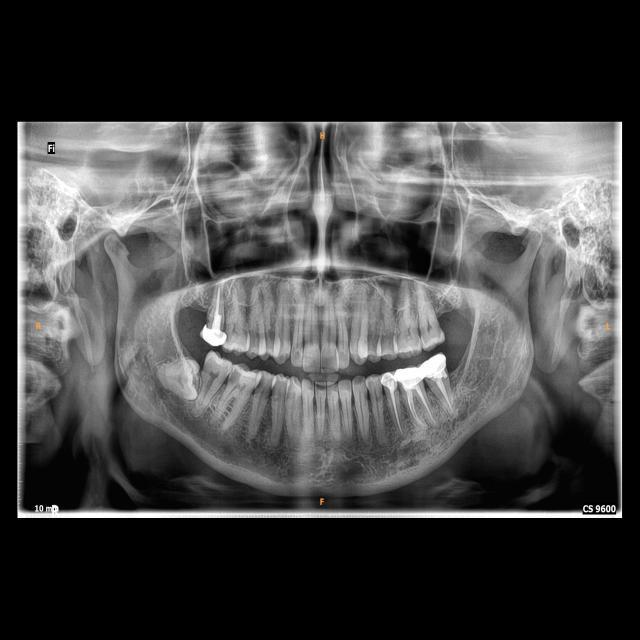dentin-curugu: (256, 379, 266, 393)
kanal-tedavisi: (405, 388, 432, 426), (435, 378, 456, 412), (209, 286, 224, 328), (389, 393, 402, 434)
kaplama: (423, 353, 450, 382), (394, 367, 425, 388), (200, 327, 226, 347), (381, 371, 399, 392)
